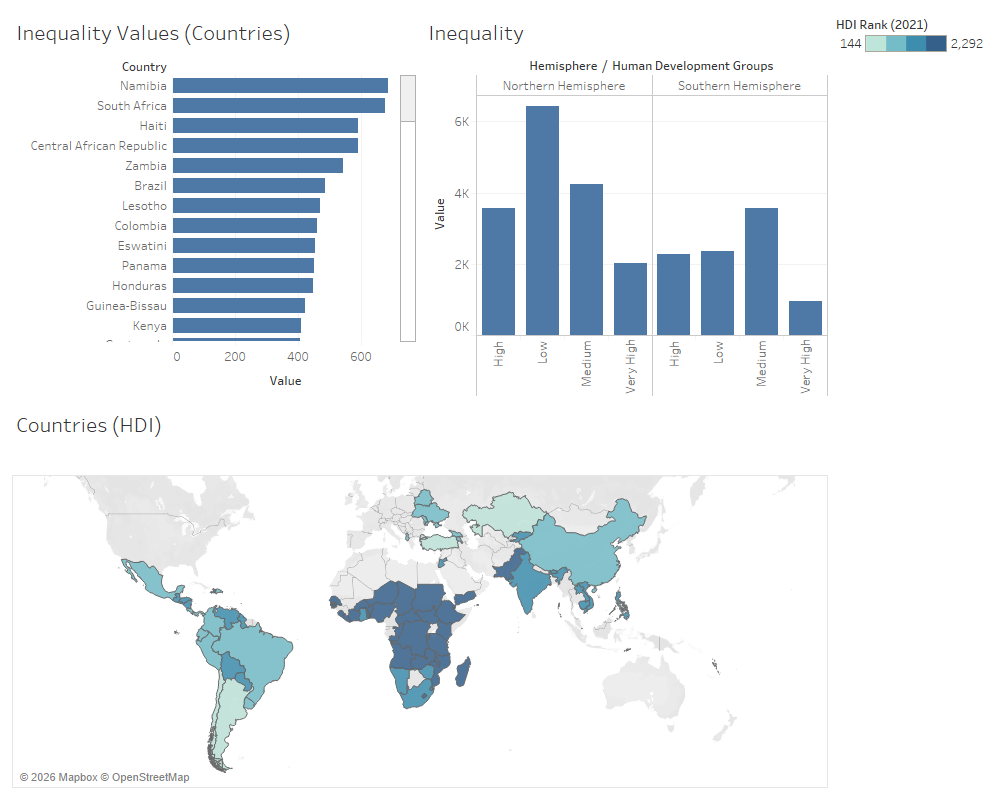

What the dashboard file says about the page in this screenshot:
{"tool":"tableau","page":{"name":"Dashboard","canvas":[1000,800],"ordinal":0},"visuals":[{"type":"worksheet","title":"Inequality Values (Countries)","mark":"Automatic","rows":["Country"],"cols":["Value"],"box":[8,8,412,392]},{"type":"worksheet","title":"Inequality","mark":"Automatic","rows":["Value"],"cols":["Hemisphere","Human Development Groups"],"box":[420,8,412,392]},{"type":"legend","title":"HDI","param":"[federated.0g4zd4k1fs1dpg16vx6wc14sqemc].[sum:HDI Rank (2021):qk]","box":[832,8,160,65]},{"type":"worksheet","title":"HDI","mark":"Automatic","box":[8,400,824,392]}]}

Visuals, with their boxes in screenshot pixels (x1, y1, x2, y2), scaled from the page's 1000x800 canvas onto the 1000x800 screenshot:
"Inequality Values (Countries)" worksheet: (left=8, top=8, right=420, bottom=400)
"Inequality" worksheet: (left=420, top=8, right=832, bottom=400)
"HDI" legend: (left=832, top=8, right=992, bottom=73)
"HDI" worksheet: (left=8, top=400, right=832, bottom=792)
